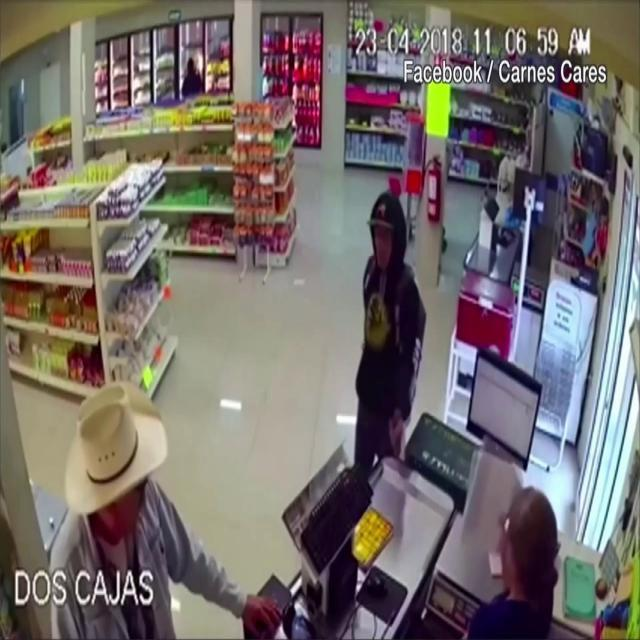weapon: (388, 416, 406, 455)
